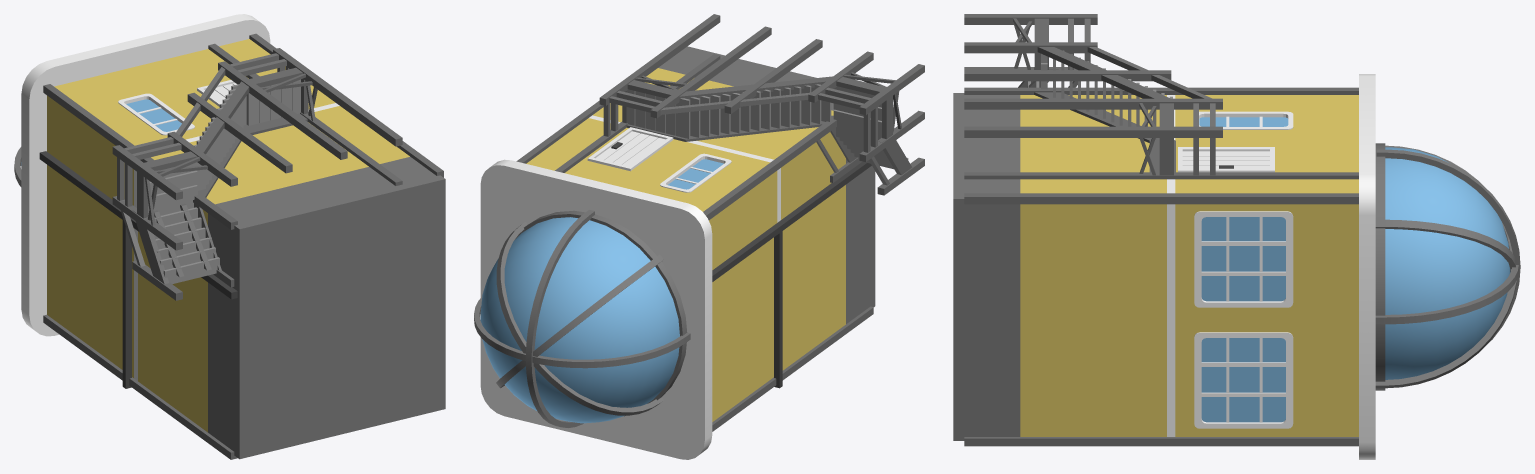
Rendered from Observatory.fbx.
3 renders of one model, left to right at view 1: azimuth 30°, elevation 25°; view 2: azimuth 150°, elevation 25°; view 3: azimuth 270°, elevation 25°, orthographic. The views are drawn at different scales.
Visible parts, largest first — view 1: Observatory; view 2: Observatory, Observatory Door; view 3: Observatory, Observatory Door.
Boxes of the visible parts, x1,y1,x2,y2 form: Observatory: (14, 14, 445, 459); Observatory: (474, 14, 924, 459); Observatory Door: (596, 131, 665, 166); Observatory: (953, 14, 1520, 459); Observatory Door: (1182, 151, 1269, 168).
Bounding box in the file's own units: 2052 × 2125 × 3399.
